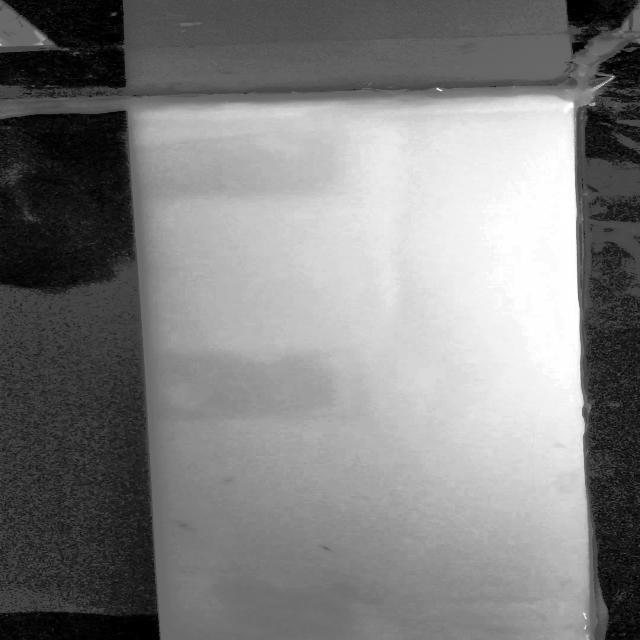shrimp: (303, 539, 360, 560), (164, 516, 216, 538)
